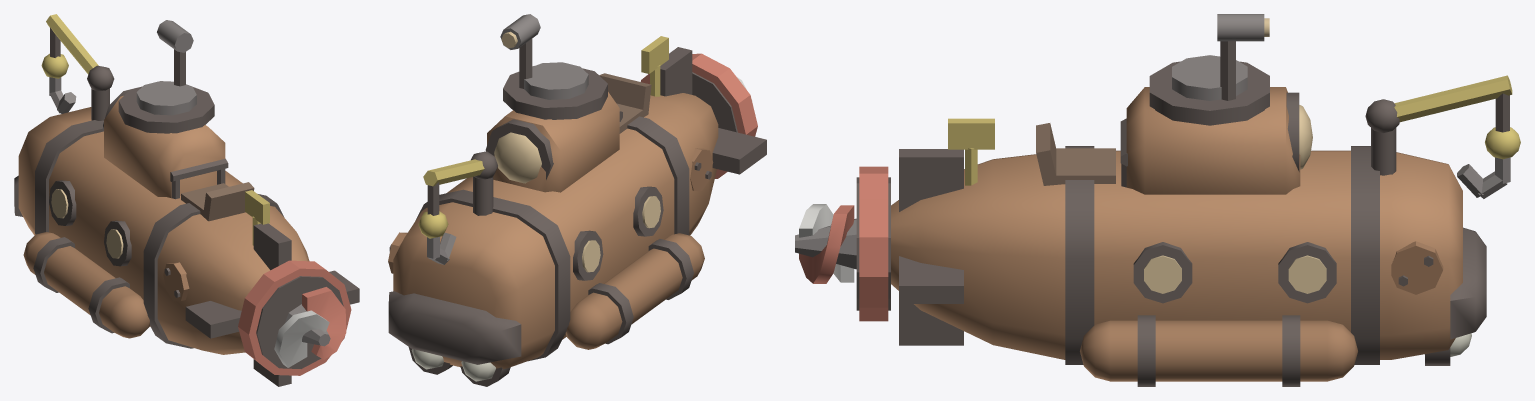
Rendered from WreckDiver.glb.
3 renders of one model, left to right at view 1: azimuth 30°, elevation 25°; view 2: azimuth 150°, elevation 25°; view 3: azimuth 270°, elevation 25°, orthographic. The views are drawn at different scales.
Parts seen in each view (by area): view 1: Hull, Prop, Seat, Hull_Glow; view 2: Hull, Hull_Glow, Seat, Light; view 3: Hull, Prop, Seat, Hull_Glow.
Boxes of the visible parts, x1,y1,x2,y2 form: Hull: (14, 14, 359, 386); Prop: (274, 287, 346, 367); Seat: (170, 158, 254, 221); Hull_Glow: (51, 189, 123, 258); Hull: (388, 14, 766, 386); Hull_Glow: (494, 31, 660, 272); Seat: (599, 73, 651, 133); Light: (411, 349, 495, 381); Hull: (856, 14, 1520, 386); Prop: (795, 204, 856, 283); Seat: (1036, 118, 1127, 187); Hull_Glow: (1144, 18, 1326, 293).
Size of the model in its own units: 16.6 by 21.12 by 40.15.
